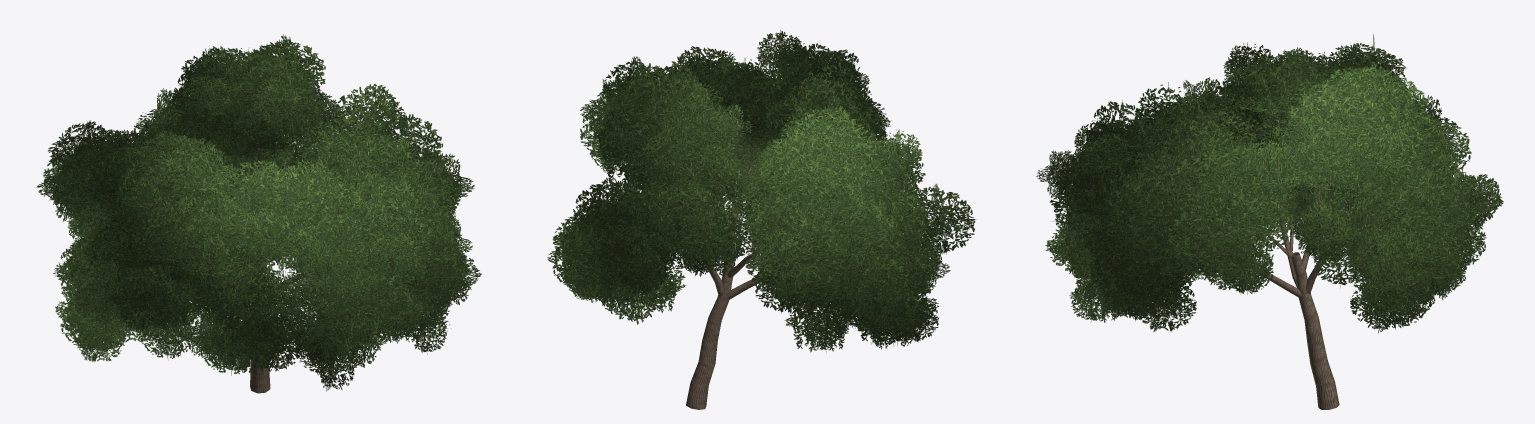
The model's file is arbol-molle.gltf.
3 views of the same model, side by side, from view 1: azimuth 30°, elevation 25°; view 2: azimuth 150°, elevation 25°; view 3: azimuth 270°, elevation 25° (orthographic).
Visible parts, largest first — view 1: molle_hojas, molle_tronco; view 2: molle_hojas, molle_tronco; view 3: molle_hojas, molle_tronco.
Boxes of the visible parts, x1,y1,x2,y2 form: molle_hojas: (36,34,481,391); molle_tronco: (84,112,420,393); molle_hojas: (547,30,975,352); molle_tronco: (630,72,919,409); molle_hojas: (1036,34,1503,333); molle_tronco: (1093,103,1417,409).
Bounding box in the file's own units: 7.45 × 6.03 × 7.95.
Materials: 2 (2 with a texture image).
